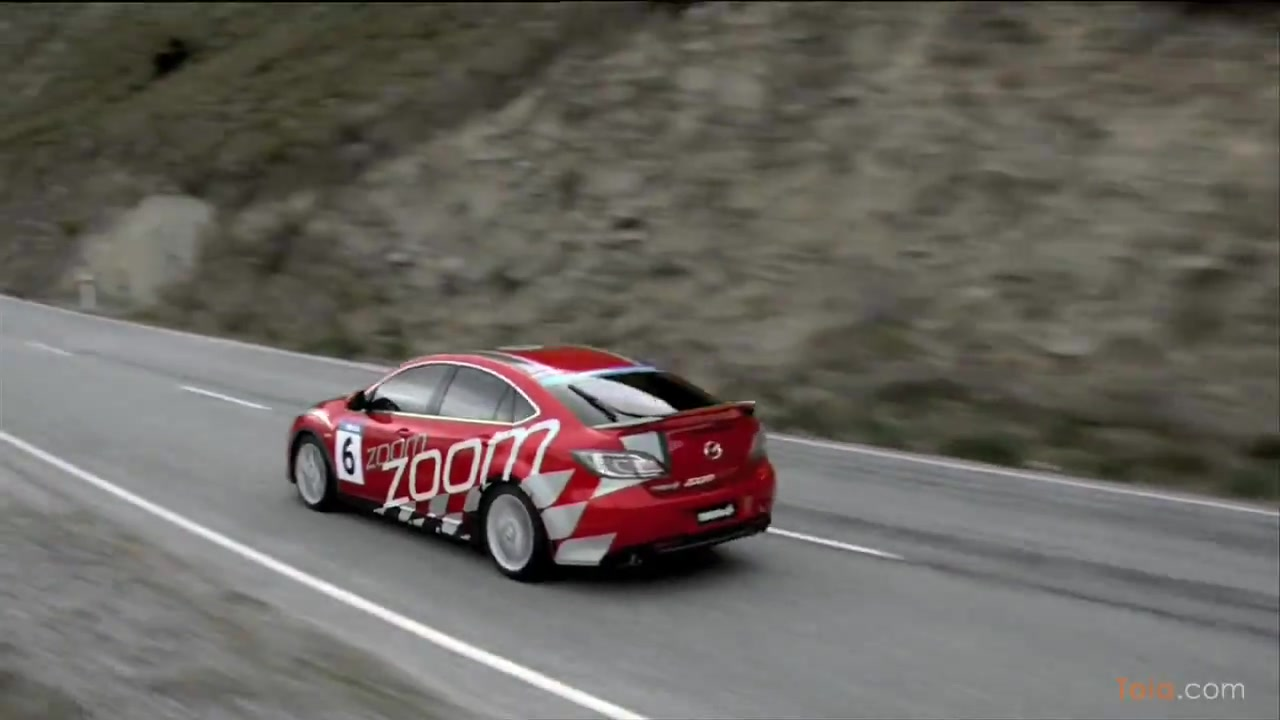car: (286, 340, 779, 588)
